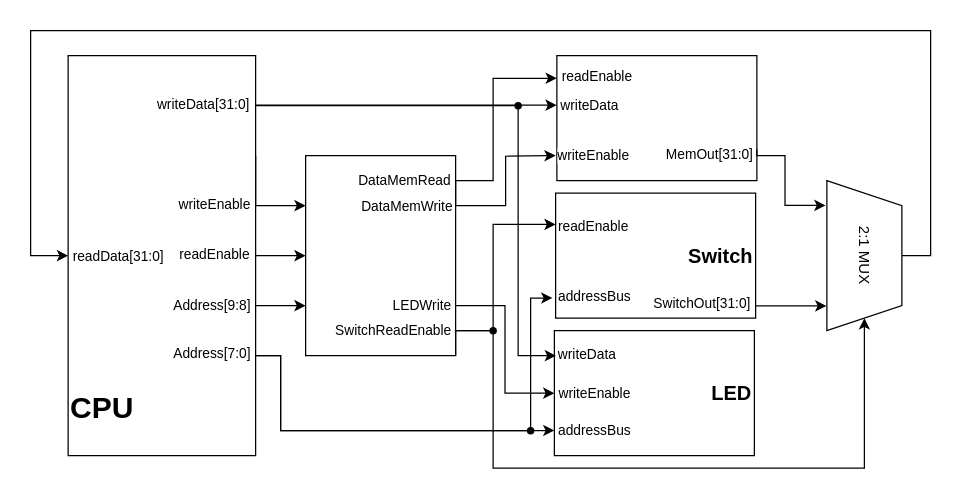
Some shapes in this 963 by 500 pixel diagram are drawn without their labels. Each missing label, with the box of its shape:
Address Decoder: (304, 154, 456, 356)
Data Memory: (556, 54, 757, 181)
